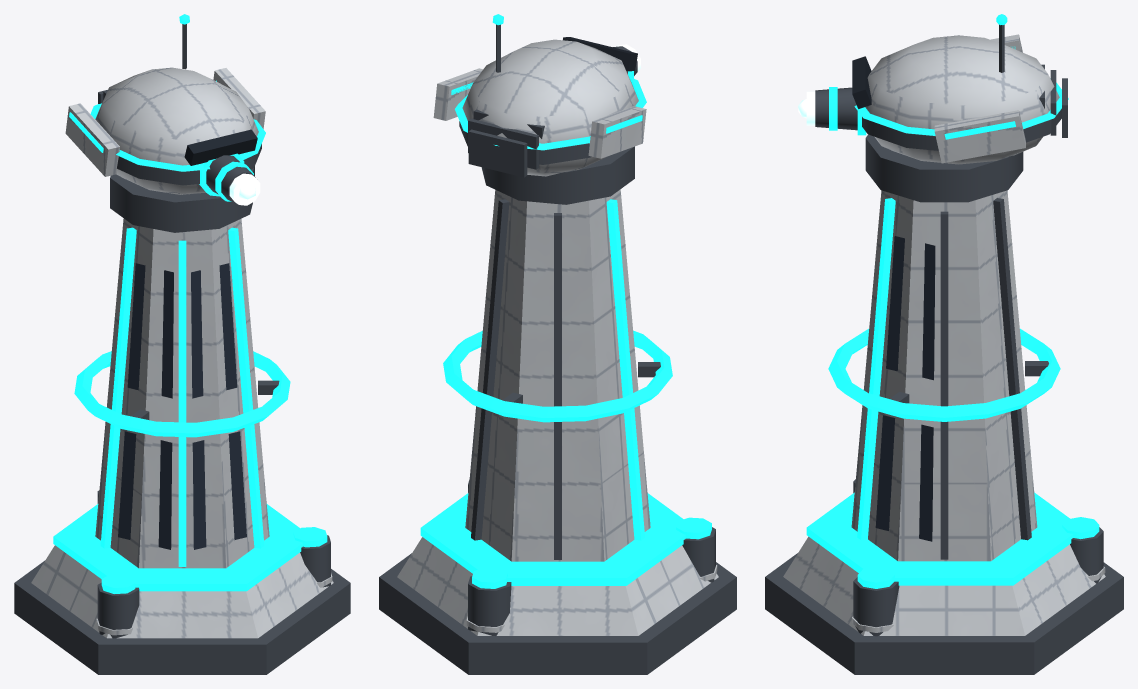
File: tower_l8.glb
The picture shows the model from 3 angles, left to right: view 1: azimuth 30°, elevation 25°; view 2: azimuth 150°, elevation 25°; view 3: azimuth 270°, elevation 25°; orthographic projection. The views are drawn at different scales.
Parts seen in each view (by area): view 1: tower_l8; view 2: tower_l8; view 3: tower_l8.
Part boxes in pixels (x1,y1,x2,y2): tower_l8: (14,14,350,674); tower_l8: (379,14,736,674); tower_l8: (765,14,1123,674).
Size of the model in its own units: 0.433 by 0.939 by 0.5.
3 materials, 1 textured.
